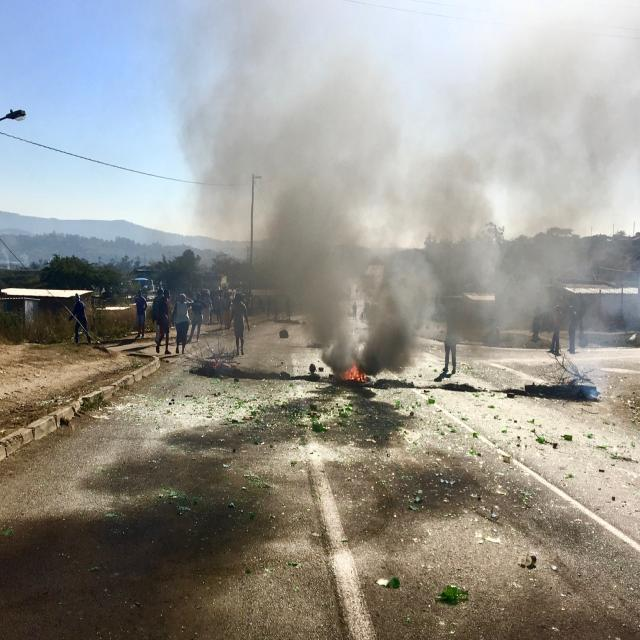Smoke: (258, 118, 581, 306)
